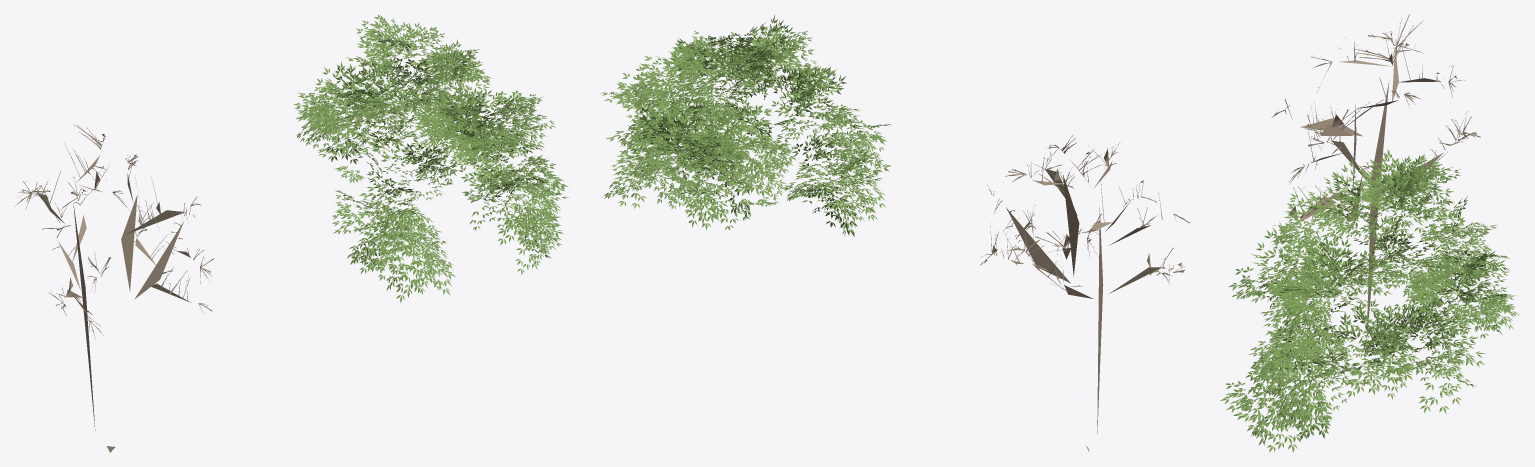
The picture shows the model from 3 angles, left to right: view 1: azimuth 30°, elevation 25°; view 2: azimuth 150°, elevation 25°; view 3: azimuth 270°, elevation 25°; orthographic projection. The views are drawn at different scales.
Visible parts, largest first — view 1: V25_LOD1_Foliage, V25_LOD1_Body; view 2: V25_LOD1_Foliage, V25_LOD1_Body; view 3: V25_LOD1_Foliage, V25_LOD1_Body.
Boxes of the visible parts, x1,y1,x2,y2 form: V25_LOD1_Foliage: (293,14,568,302); V25_LOD1_Body: (14,124,213,452); V25_LOD1_Foliage: (600,15,891,236); V25_LOD1_Body: (980,134,1190,451); V25_LOD1_Foliage: (1220,149,1519,452); V25_LOD1_Body: (1271,14,1480,369).
Bounding box in the file's own units: 19.88 × 12.34 × 8.84.
